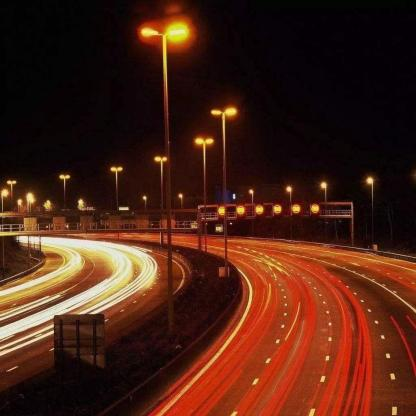other: (258, 273, 361, 401), (43, 240, 158, 307), (190, 100, 248, 151), (246, 176, 378, 196), (23, 184, 97, 218), (229, 200, 324, 220), (163, 18, 199, 56)
